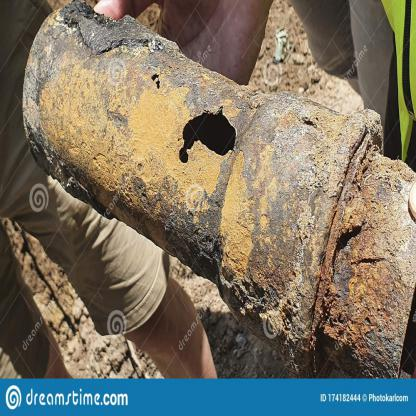burst: (174, 106, 261, 179)
